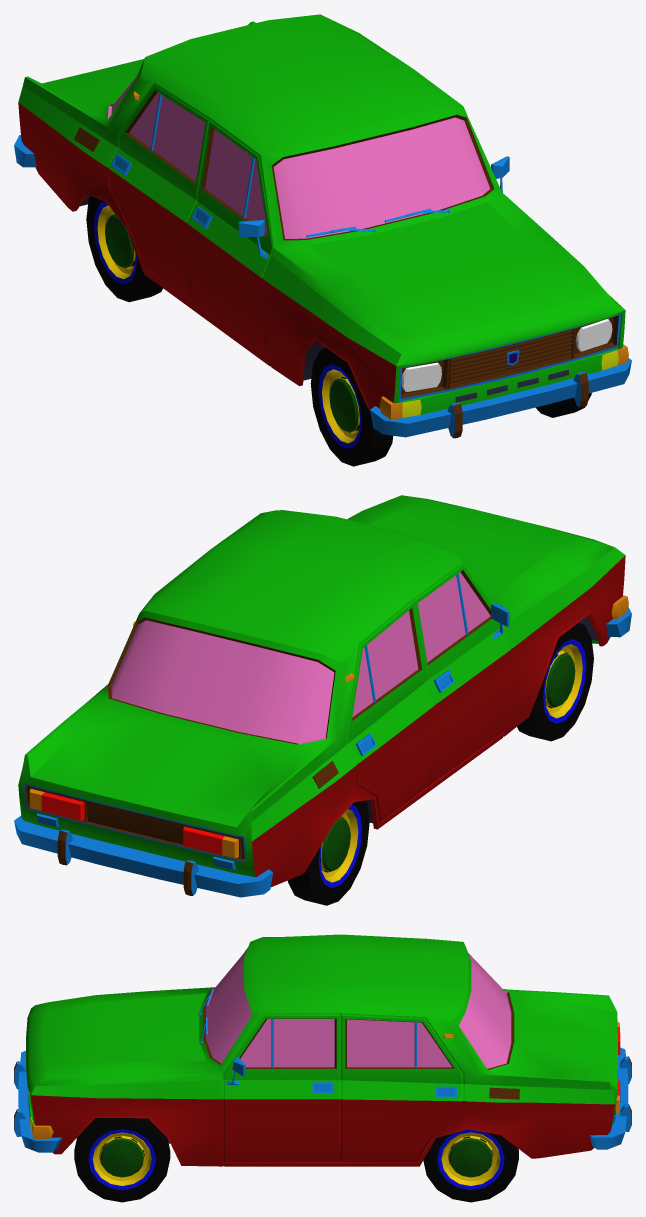
The model's file is Moscvich.fbx.
3 views of the same model, one above another, from view 1: azimuth 30°, elevation 25°; view 2: azimuth 150°, elevation 25°; view 3: azimuth 270°, elevation 25° (orthographic). The views are drawn at different scales.
Parts seen in each view (by area): view 1: Body, Wheel_FR, Wheel_RR; view 2: Body, Wheel_FR, Wheel_RR; view 3: Body, Wheel_FL, Wheel_RL.
Boxes of the visible parts, <box> form: Body: <box>14,14,631,438</box>; Wheel_FR: <box>310,348,393,466</box>; Wheel_RR: <box>86,196,162,302</box>; Body: <box>14,495,631,897</box>; Wheel_FR: <box>517,622,593,741</box>; Wheel_RR: <box>287,800,369,905</box>; Body: <box>14,934,631,1166</box>; Wheel_FL: <box>74,1117,170,1202</box>; Wheel_RL: <box>423,1129,518,1202</box>.
Bounding box in the file's own units: 165 × 147 × 422.
